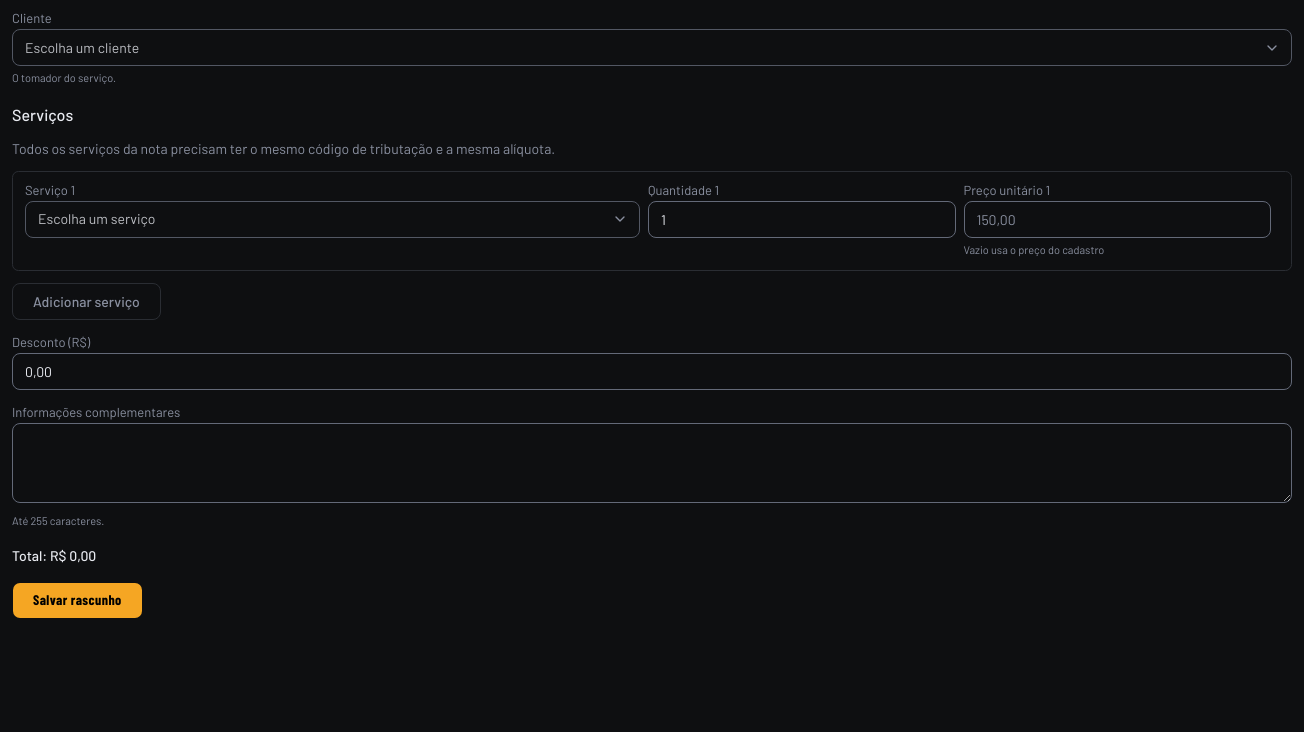
Test: NFS-e › mostra o erro de bloqueio fiscal que vem da API
The width and height of the screenshot is (1304, 732).
Select "Maria Teste" in the dropdown labelled "Cliente" at (652, 48), box [12,29,1292,66]
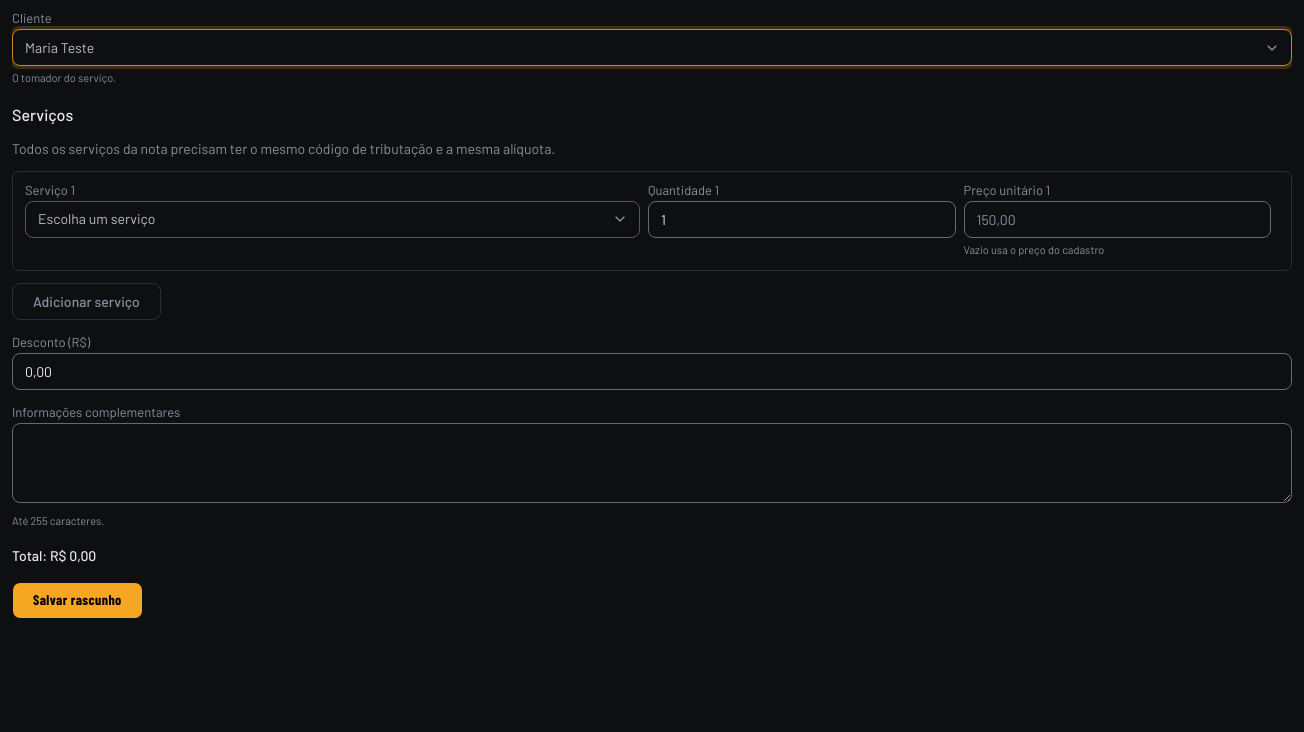
Select "Troca de óleo" in the dropdown labelled "Serviço 1" at (332, 219), box [25,200,640,238]
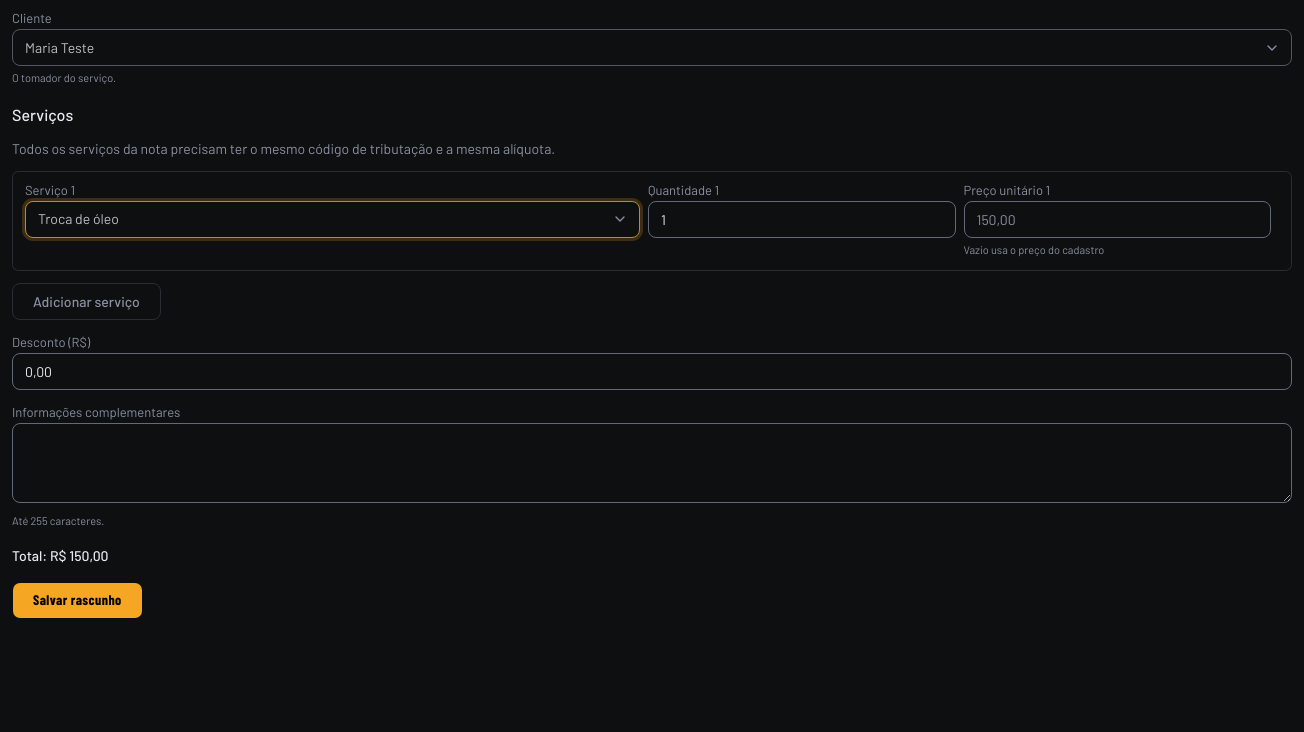
Click the button "Salvar rascunho" at (77, 600), box [12,582,143,618]
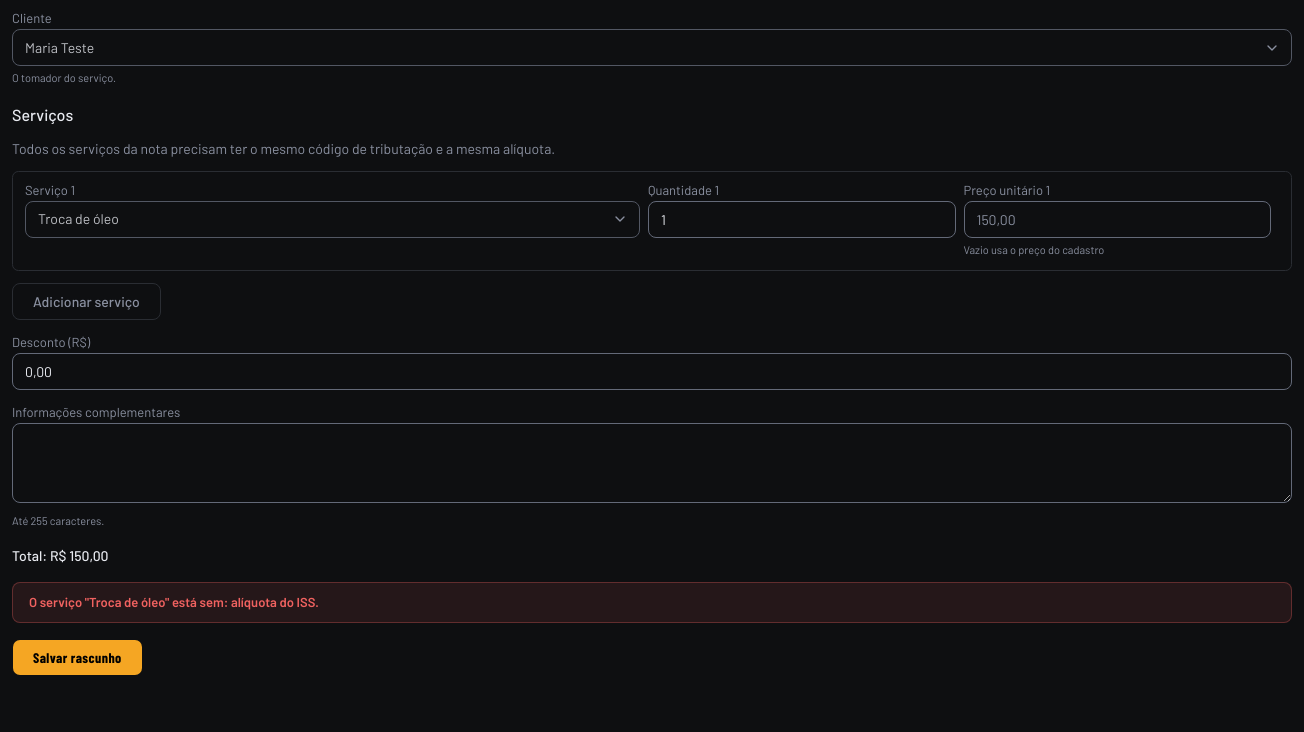
Now the message shows "alíquota do ISS", box [29,594,319,610]
